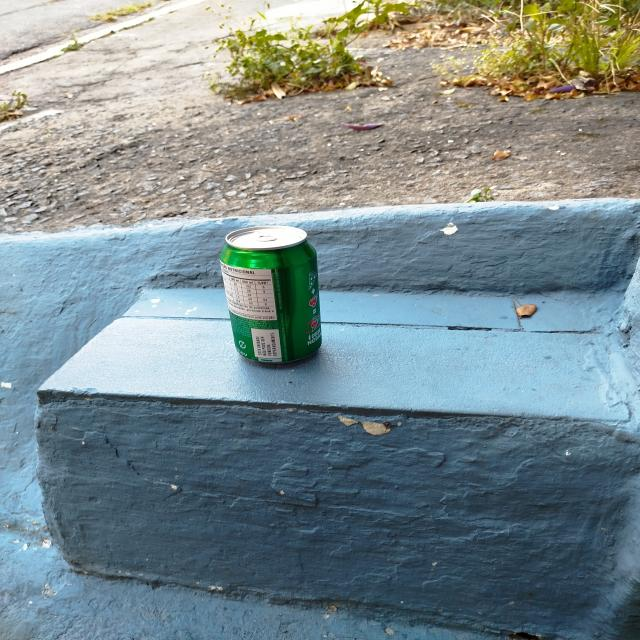Guarana: (219, 226, 321, 364)
